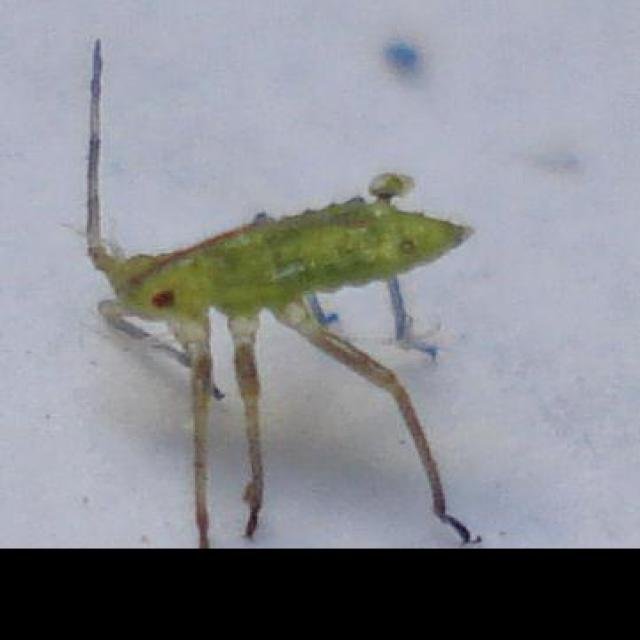Aphids: (48, 52, 502, 533)
